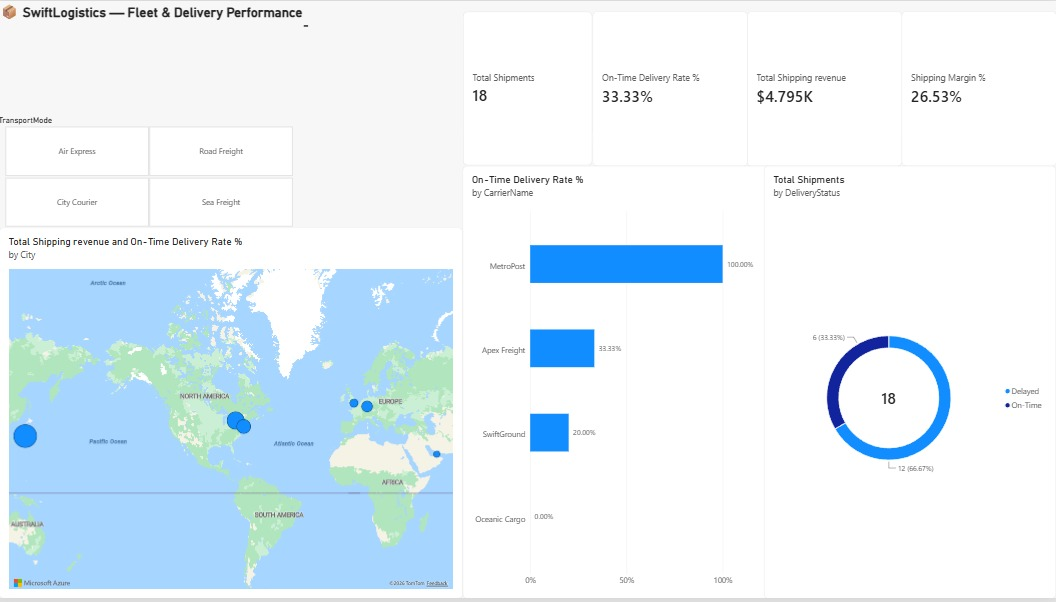

Layout of this report page (visuals, bound fields, positions):
{"tool":"powerbi","page":{"name":"Executive Page","canvas":[1920,1080],"ordinal":0},"visuals":[{"type":"cardVisual","fields":{"Data":["_Measures.Total Shipments"]},"box":[847.2,18.6,235.1,279.3],"z":0},{"type":"cardVisual","fields":{"Data":["_Measures.On-Time Delivery Rate %"]},"box":[1082.2,18.6,280,280],"z":1000},{"type":"cardVisual","fields":{"Data":["_Measures.Total Shipping revenue"]},"box":[1361.5,18.6,280,280],"z":2000},{"type":"cardVisual","fields":{"Data":["_Measures.Shipping Margin %"]},"box":[1640.8,18.6,280,280],"z":3000},{"type":"clusteredBarChart","fields":{"Category":["Dim_Carriers.CarrierName"],"Y":["_Measures.On-Time Delivery Rate %"]},"box":[847.2,297.9,560.9,782],"z":4000},{"type":"donutChart","fields":{"Category":["Fact_Shipments.DeliveryStatus"],"Y":["_Measures.Total Shipments"]},"box":[1391.8,297.9,528.3,782],"z":4001},{"type":"azureMap","fields":{"Category":["Dim_Destinations.City"],"Size":["_Measures.Total Shipping revenue"]},"box":[9.3,409.6,837.8,670.3],"z":4002},{"type":"slicer","fields":{"Values":["Dim_Carriers.TransportMode"]},"box":[0,207.1,558.6,202.5],"z":4003},{"type":"textbox","title":"📦 SwiftLogistics — Fleet & Delivery Performance","box":[9.3,0,558.6,46.5],"z":4004}]}

Visuals, with their boxes in screenshot pixels (x1, y1, x2, y2), scaled from the page's 1920x1080 canvas onto the 1056x602 screenshot:
cardVisual - _Measures.Total Shipments: (left=466, top=10, right=595, bottom=166)
cardVisual - _Measures.On-Time Delivery Rate %: (left=595, top=10, right=749, bottom=166)
cardVisual - _Measures.Total Shipping revenue: (left=749, top=10, right=903, bottom=166)
cardVisual - _Measures.Shipping Margin %: (left=902, top=10, right=1055, bottom=166)
clusteredBarChart - Dim_Carriers.CarrierName x _Measures.On-Time Delivery Rate %: (left=466, top=166, right=774, bottom=601)
donutChart - Fact_Shipments.DeliveryStatus x _Measures.Total Shipments: (left=765, top=166, right=1055, bottom=601)
azureMap - Dim_Destinations.City x _Measures.Total Shipping revenue: (left=5, top=228, right=466, bottom=601)
slicer - Dim_Carriers.TransportMode: (left=0, top=115, right=307, bottom=228)
"📦 SwiftLogistics — Fleet & Delivery Performance" textbox: (left=5, top=0, right=312, bottom=26)
